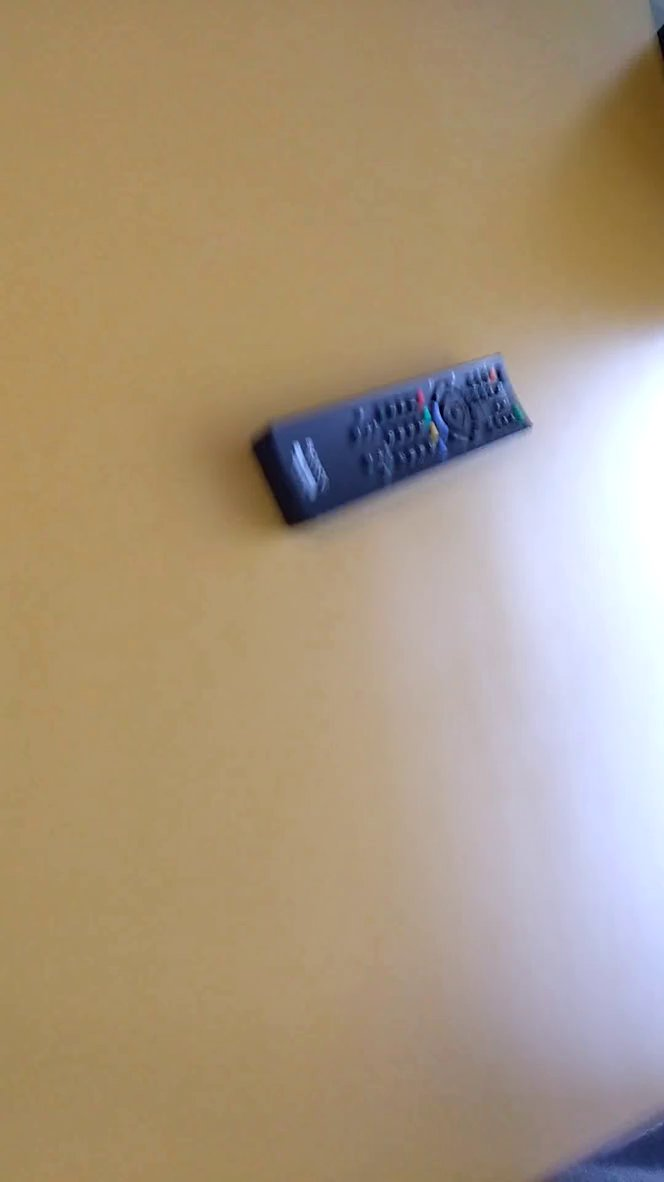remote: (231, 333, 553, 553)
